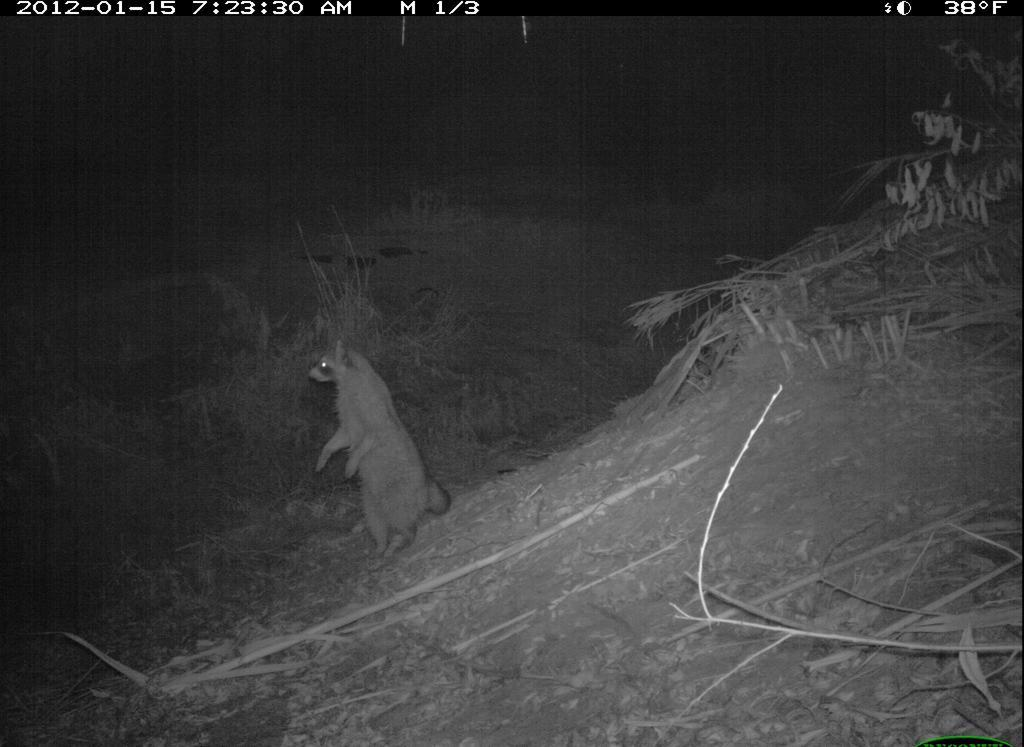raccoon: (306, 331, 455, 569)
